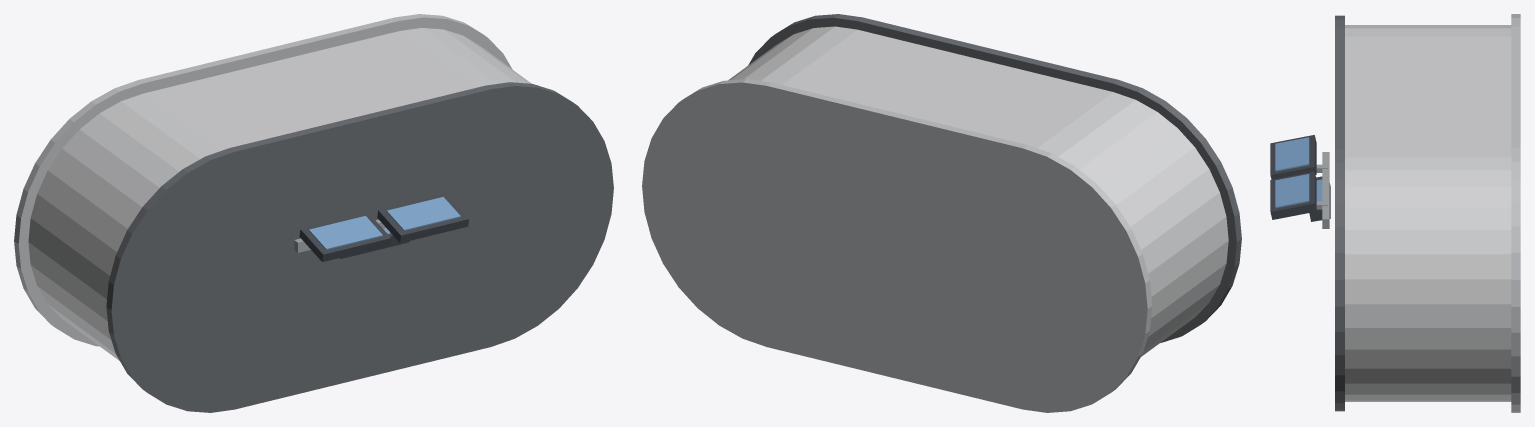
File: Quầy thủ tục Boarding.glb
The picture shows the model from 3 angles, left to right: view 1: azimuth 30°, elevation 25°; view 2: azimuth 150°, elevation 25°; view 3: azimuth 270°, elevation 25°; orthographic projection. The views are drawn at different scales.
Parts seen in each view (by area): view 1: world; view 2: world; view 3: world.
Part boxes in pixels (x1,y1,x2,y2): world: (14,14,613,412); world: (642,14,1241,412); world: (1270,14,1520,412).
Bounding box in the file's own units: 3.12 × 1.54 × 1.38.
